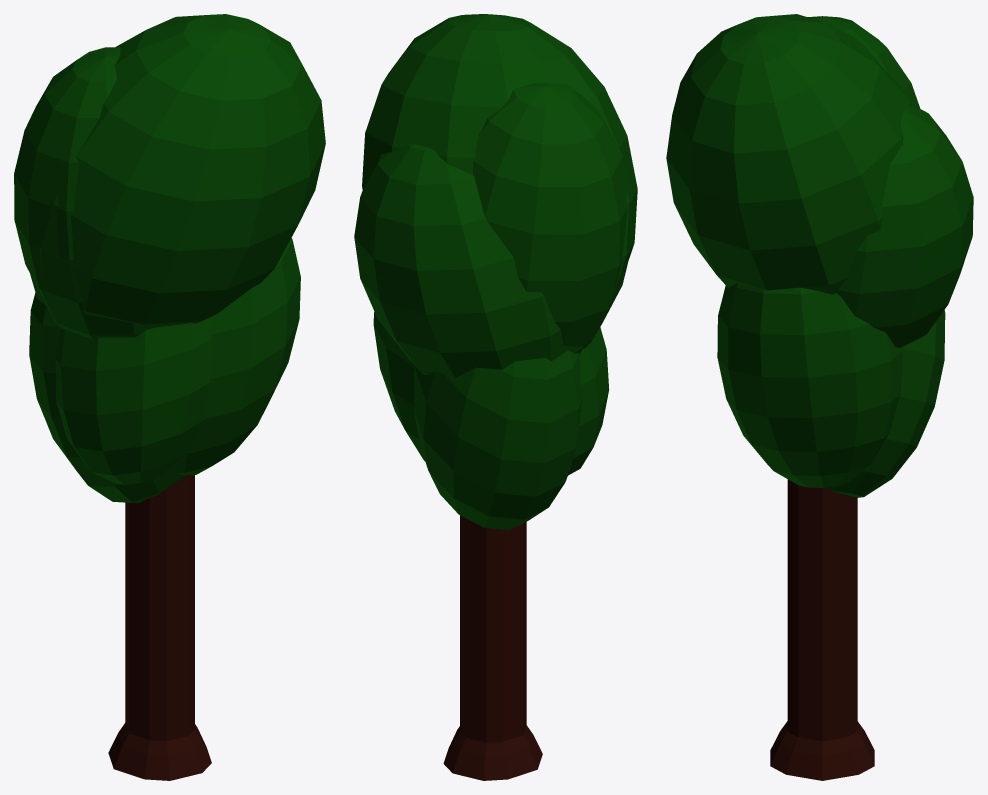
The model's file is Avore Var. 2.fbx.
The picture shows the model from 3 angles, left to right: view 1: azimuth 30°, elevation 25°; view 2: azimuth 150°, elevation 25°; view 3: azimuth 270°, elevation 25°; orthographic projection. The views are drawn at different scales.
Parts seen in each view (by area): view 1: Arvore2; view 2: Arvore2; view 3: Arvore2.
Boxes of the visible parts, x1,y1,x2,y2 form: Arvore2: [14, 14, 325, 780]; Arvore2: [354, 14, 637, 780]; Arvore2: [666, 14, 973, 780].
Size of the model in its own units: 222 by 590 by 221.
